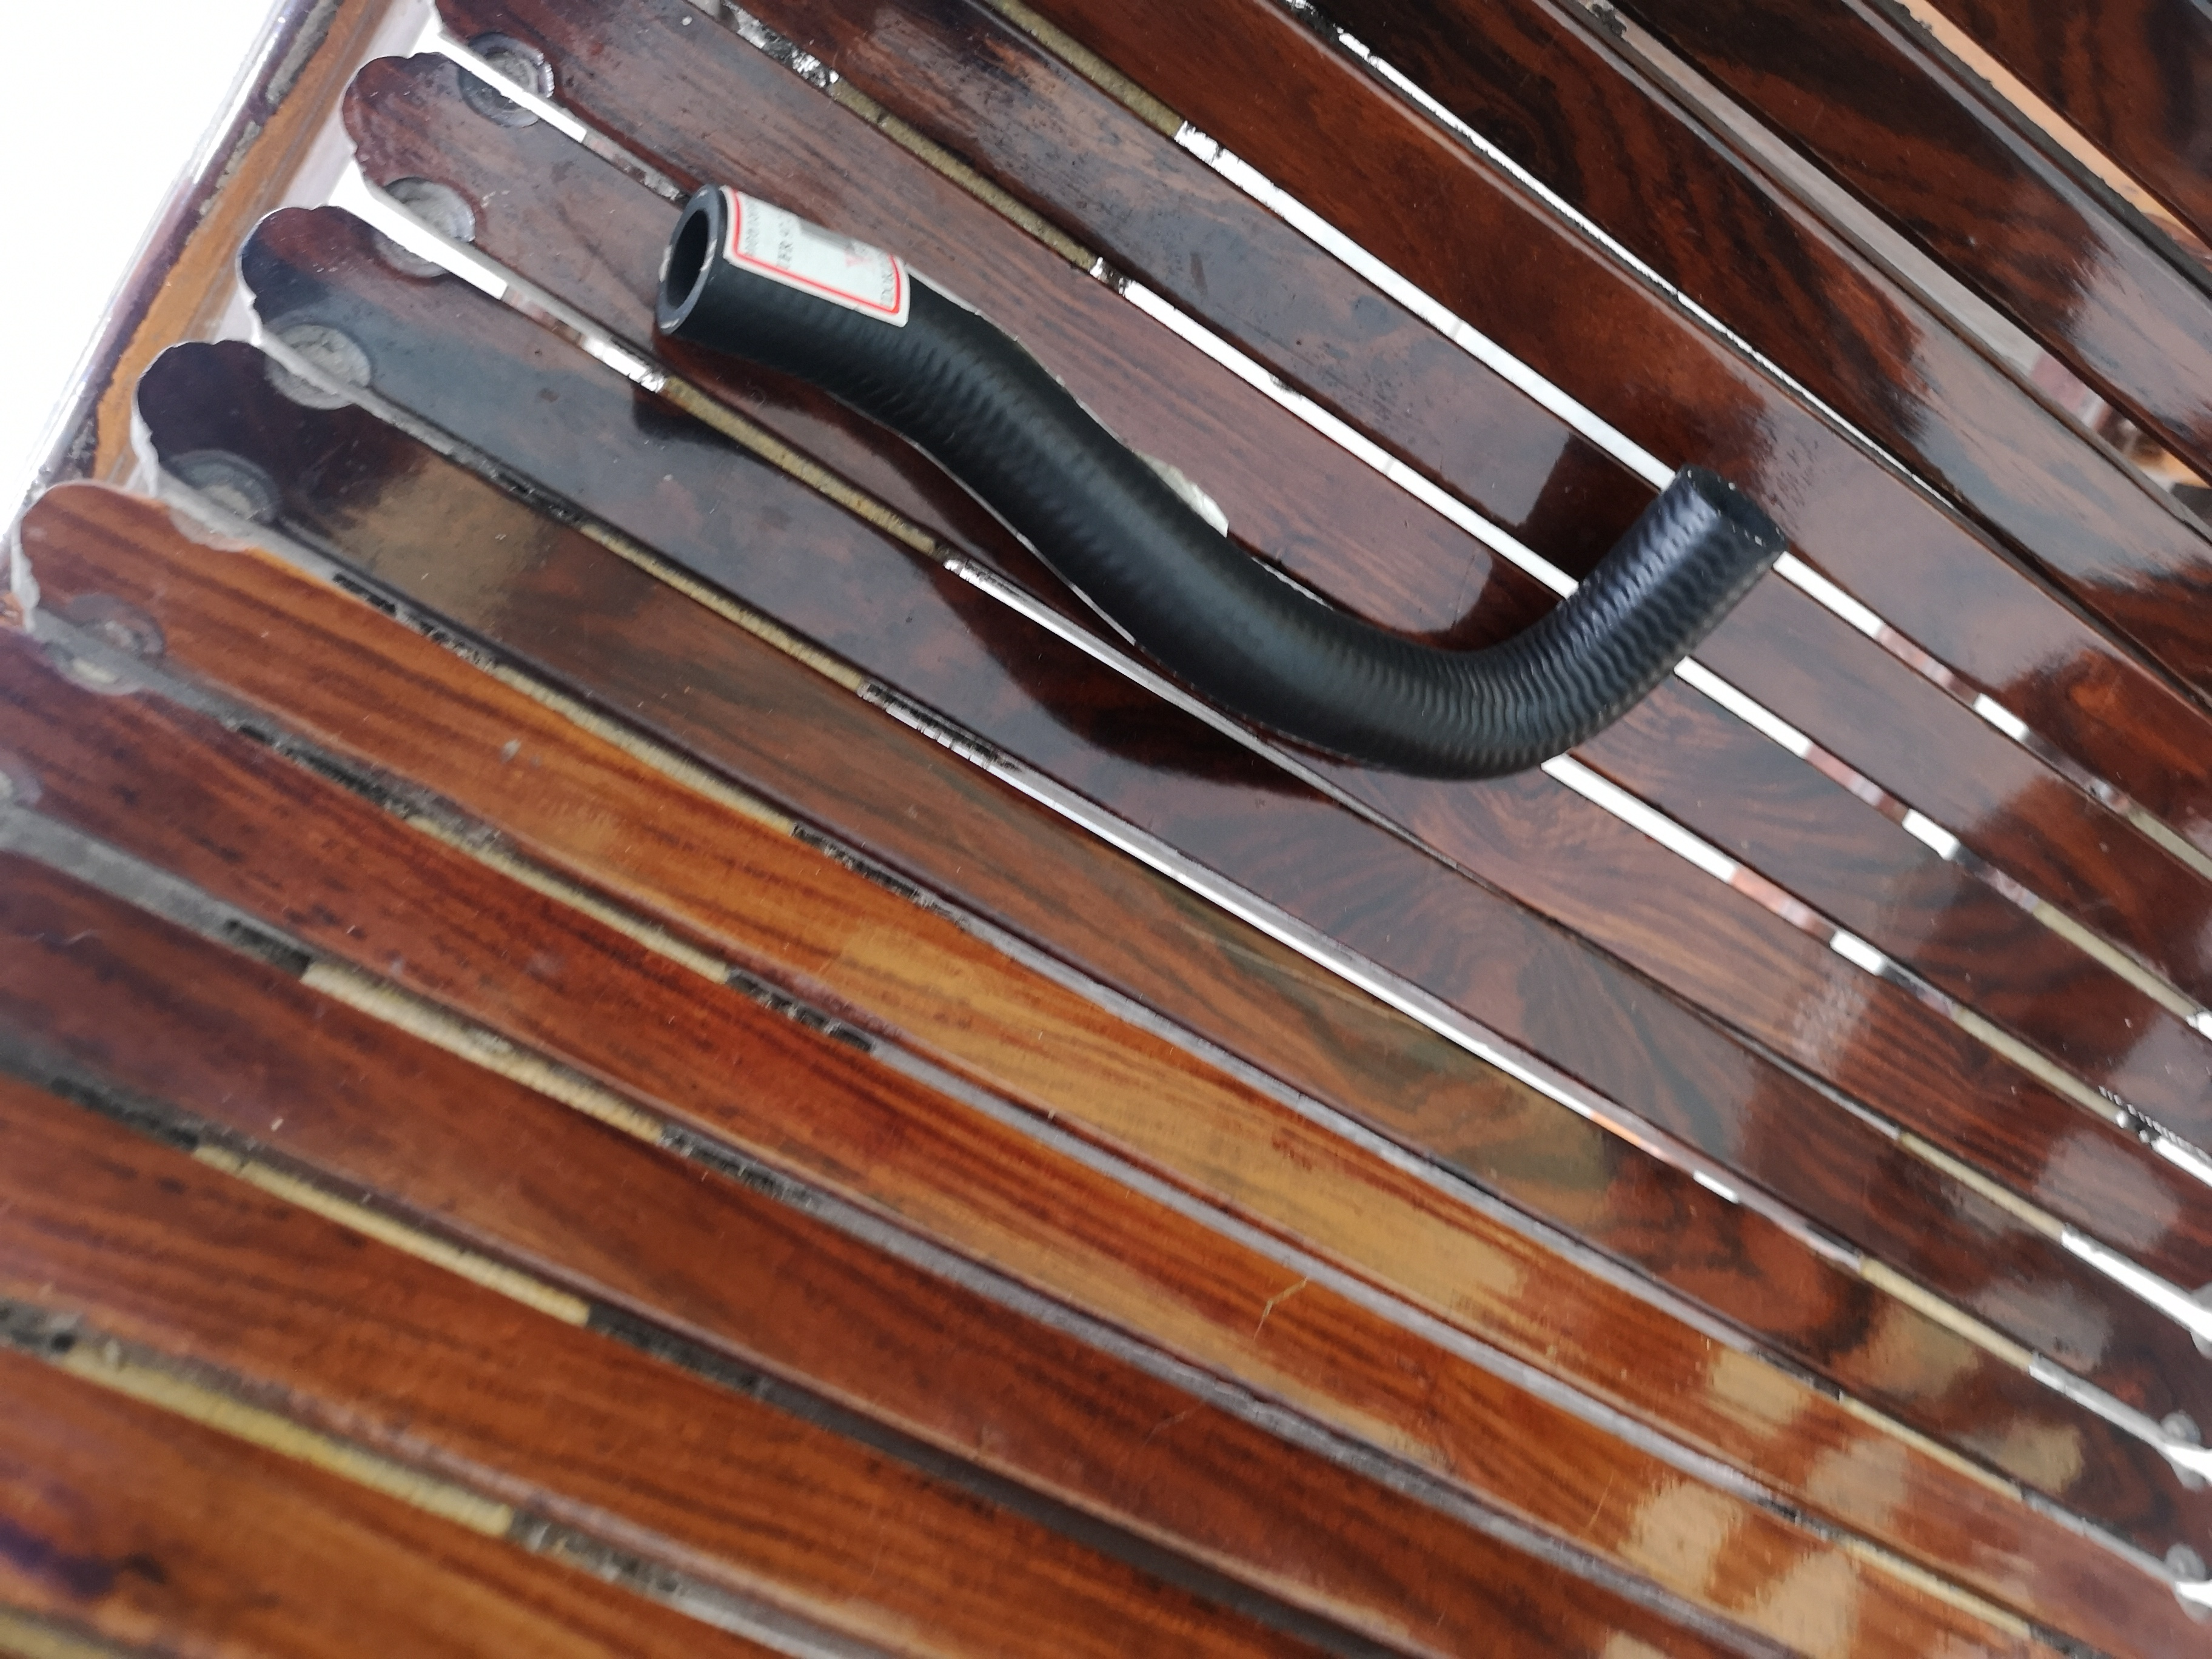ท่อยางน้ำมันเลี้ยงเทอร์โบ: (629, 136, 1820, 814)
